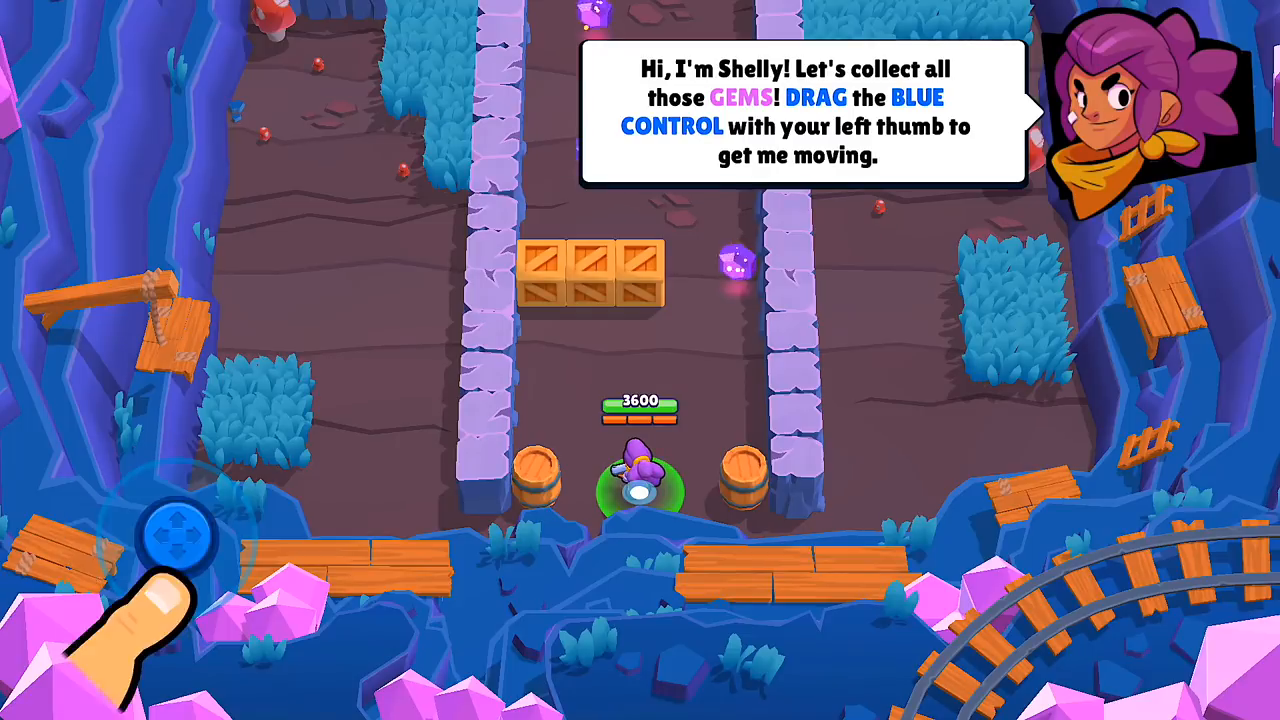move_stick: (144, 504, 216, 557)
